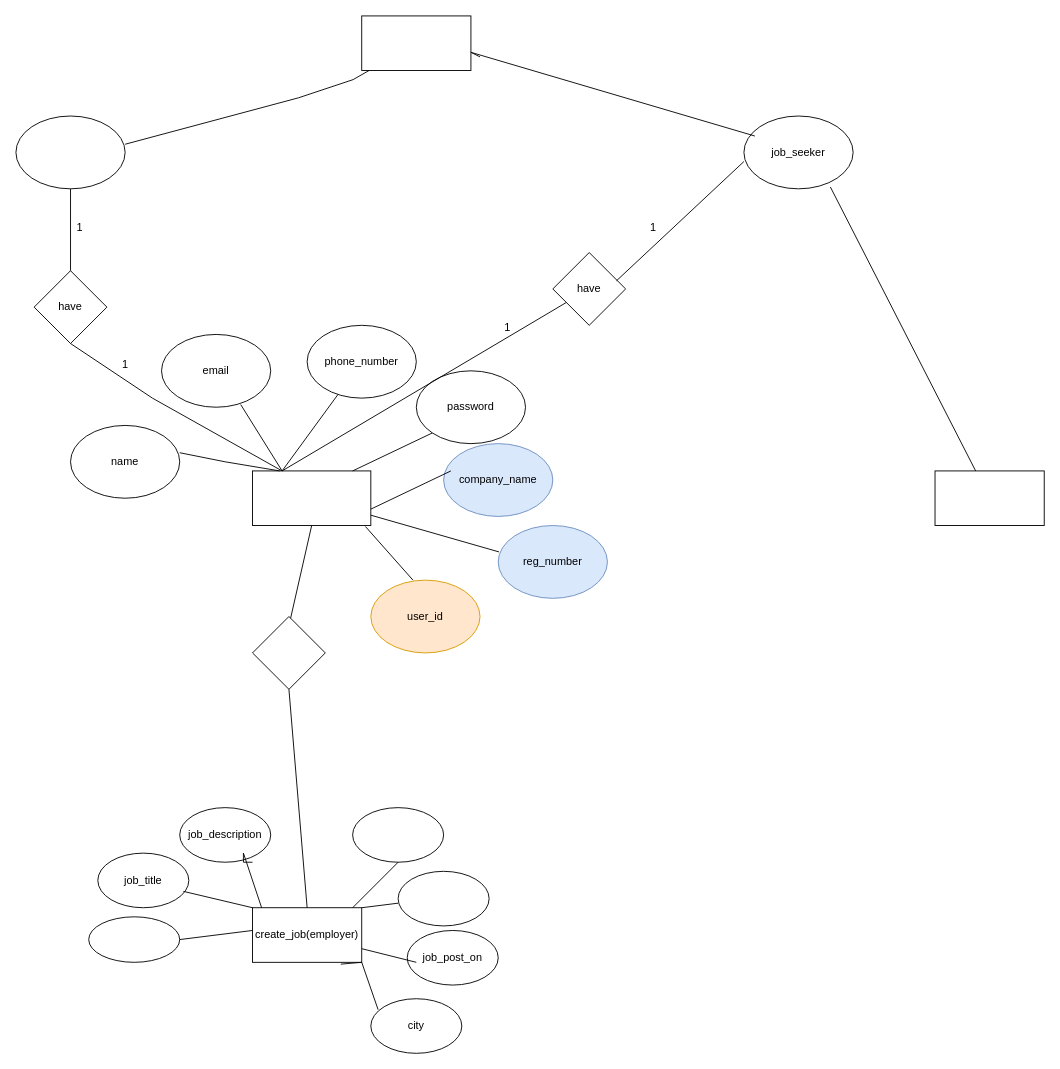
The diagram is 1060 pixels wide and 1069 high, and some of its shapes have lost their labels. The centre of each missing label's shape, as x and y in pixels:
"apply" belongs at point (989, 498).
"can _do" belongs at point (288, 652).
"category" belongs at point (416, 43).
"country" belongs at point (134, 939).
"employer" belongs at point (70, 152).
"location" belongs at point (398, 834).
"salary" belongs at point (443, 898).
"user" belongs at point (311, 498).
